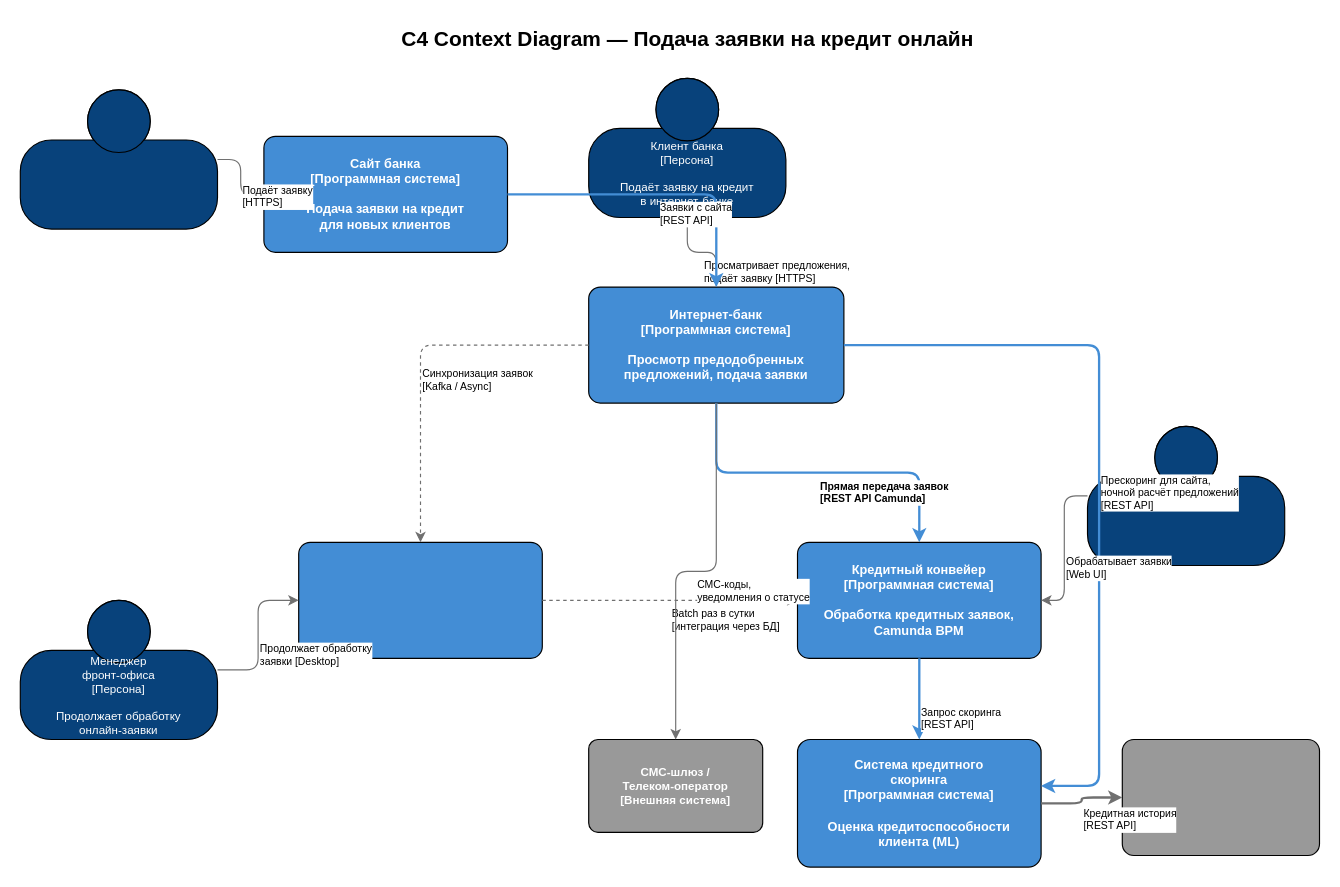
This 1340x887 diagram has some shape labels left out. The shapes that lost their labels are listed below. From the top down, each one's centre as x and y in pixels, then its label:
At [118,159]: "Новый клиент [Персона] Подаёт заявку на кредит с сайта".
At [1185,495]: "Менеджер БО кредитов [Персона] Обрабатывает заявки в Кредитном конвейере".
At [420,599]: "АБС [Программная система] Учёт операций, работа менеджеров отделений".
At [1220,796]: "Бюро кредитных историй (БКИ) [Внешняя система] REST API".
